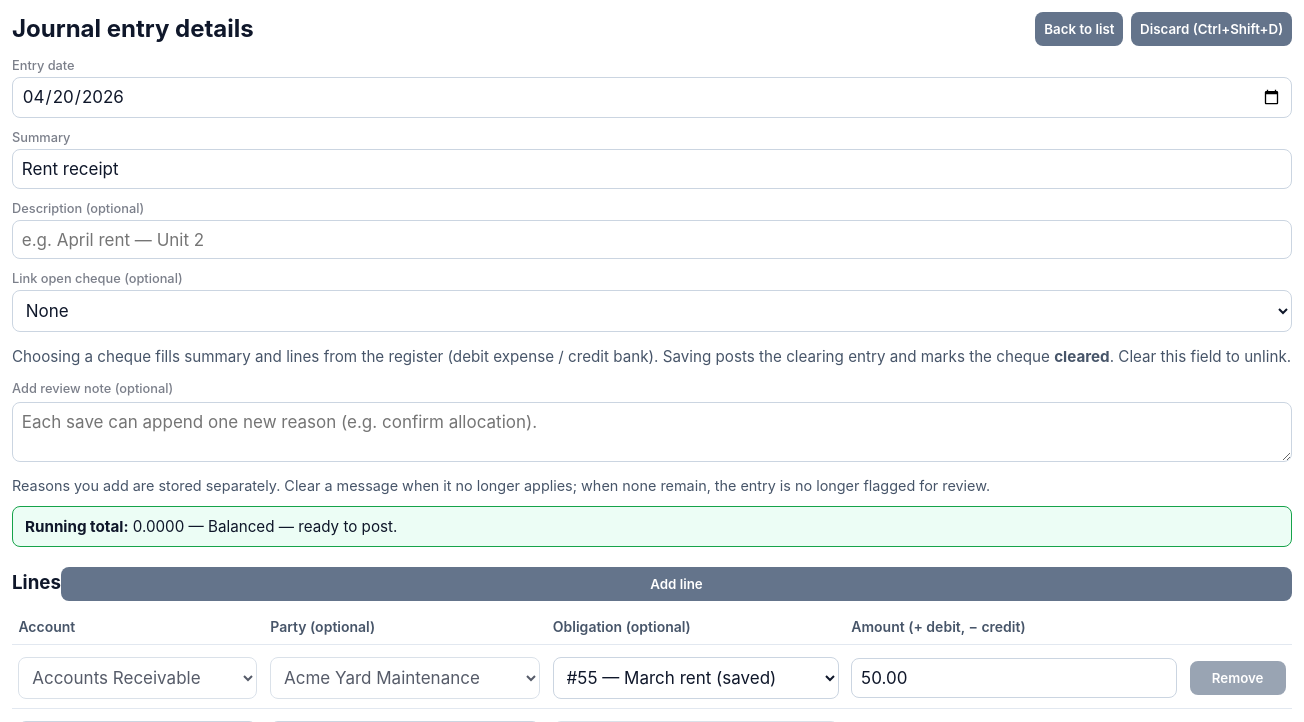
Test: JournalEntryForm › manual obligation settlement (#272) › restores plan P&L when clearing obligation from a bridge line
Select "No obligation" in the dropdown named "Obligation for line a": (696,678) [553,657,838,699]
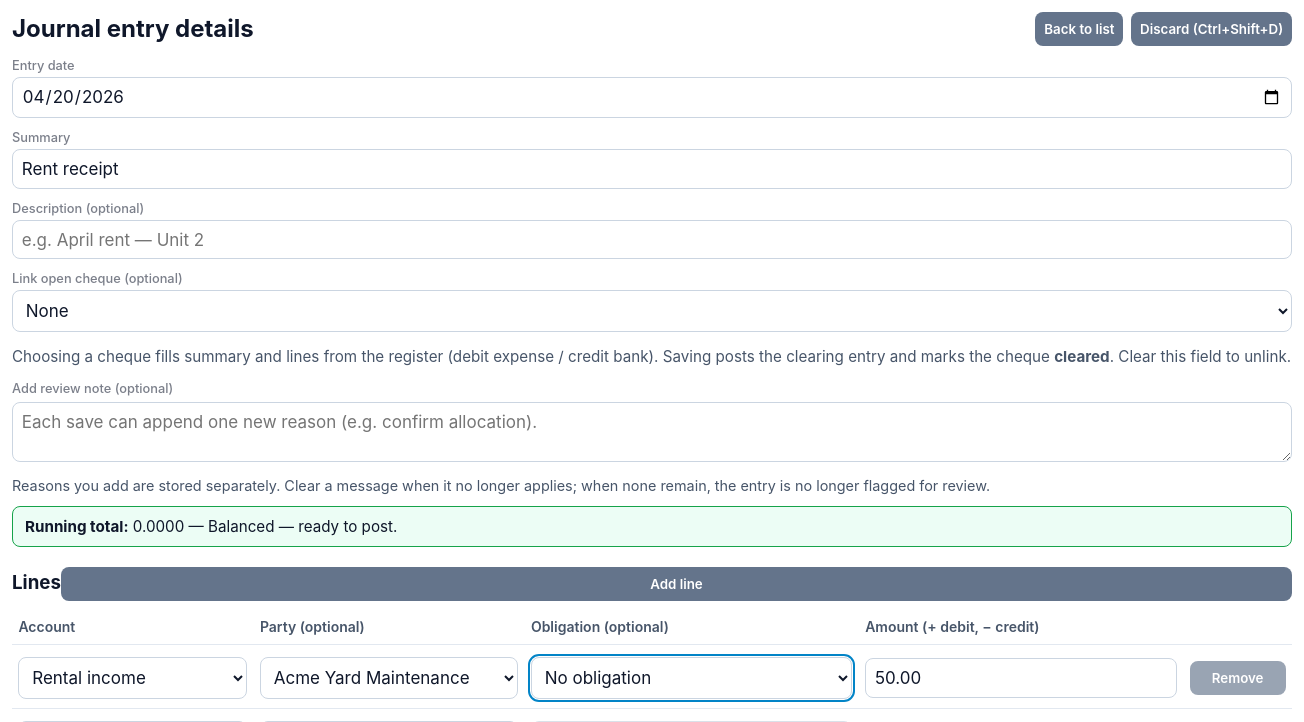
Now the dropdown named "Account for line a" shows "Rental income", box [18,657,247,699]
Now the dropdown named "Account for line a" is enabled, box [18,657,247,699]
